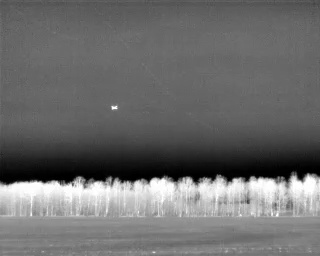DRONE: (108, 101, 122, 114)
